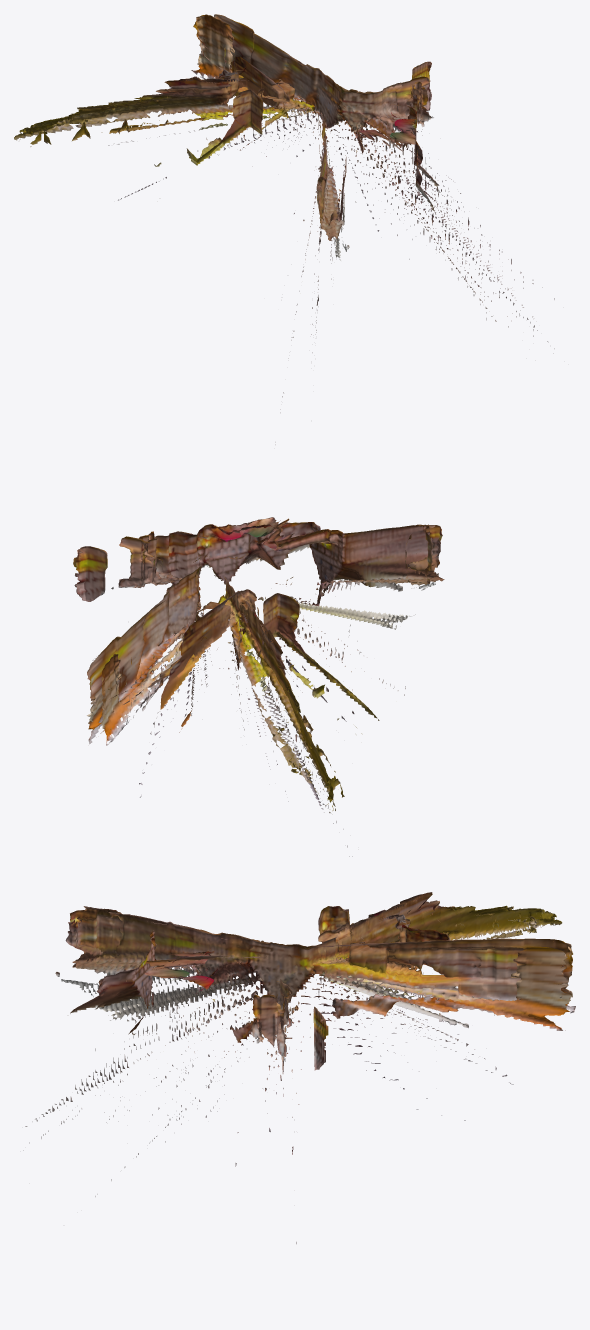
Rendered from collider.glb.
The picture shows the model from 3 angles, top to bottom: view 1: azimuth 30°, elevation 25°; view 2: azimuth 150°, elevation 25°; view 3: azimuth 270°, elevation 25°; orthographic projection. The views are drawn at different scales.
Parts seen in each view (by area): view 1: world; view 2: world; view 3: world.
Part boxes in pixels (x1,y1,x2,y2): world: (14, 14, 554, 444); world: (73, 517, 444, 856); world: (23, 892, 575, 1243).
Size of the model in its own units: 31.46 by 21.03 by 33.79.
